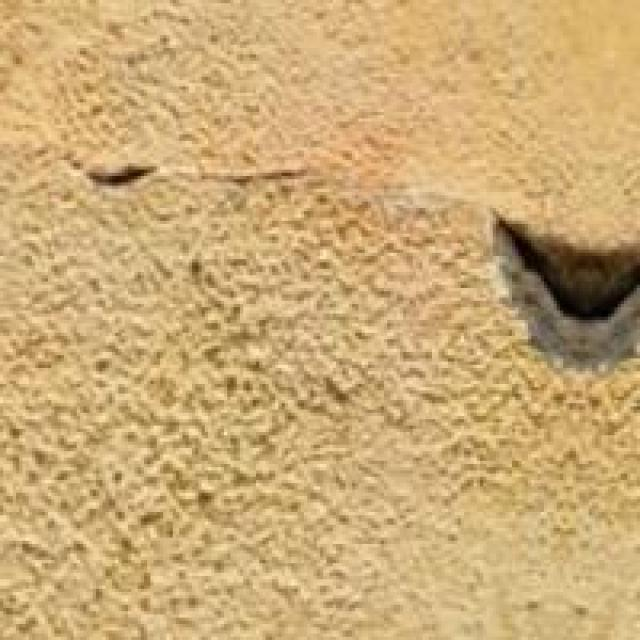Crack: (64, 128, 637, 390)
